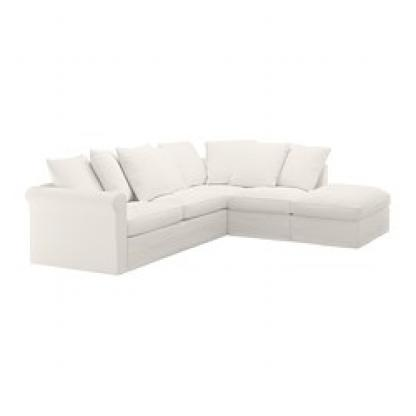Sofa: (22, 136, 391, 278)
